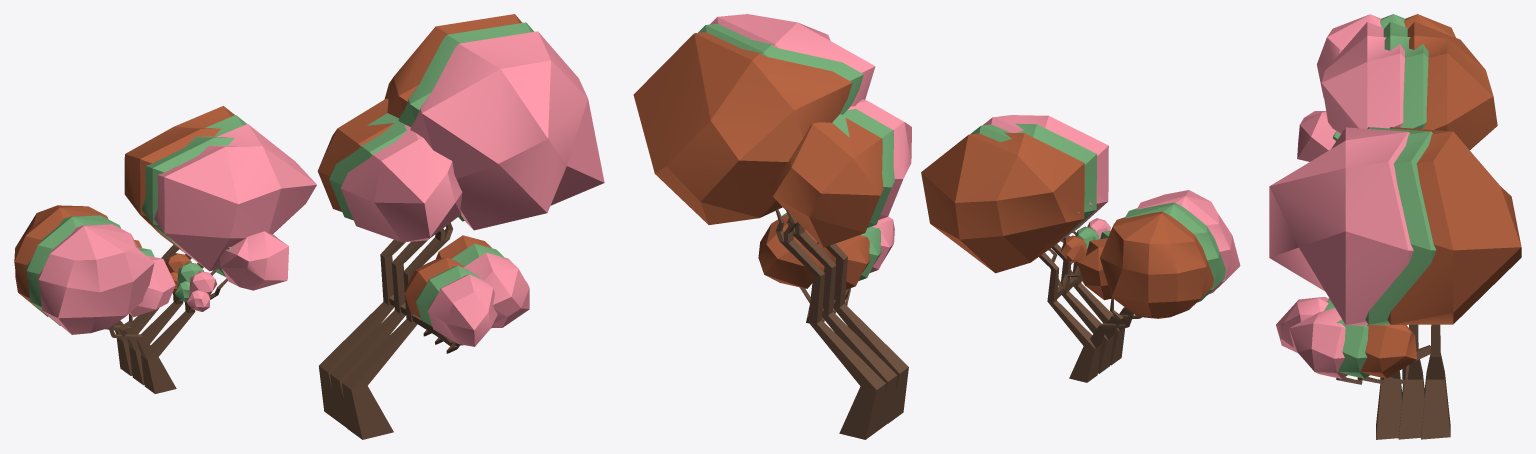
The model's file is trees.fbx.
3 renders of one model, left to right at view 1: azimuth 30°, elevation 25°; view 2: azimuth 150°, elevation 25°; view 3: azimuth 270°, elevation 25°, orthographic. The views are drawn at different scales.
Parts seen in each view (by area): view 1: tree2, tree1, tree6, tree4, tree5, tree3; view 2: tree6, tree5, tree2, tree4, tree3, tree1; view 3: tree2, tree6, tree1, tree4, tree5, tree3.
Part boxes in pixels (x1,y1,x2,y2): tree2: [340, 31, 604, 439]; tree1: [38, 124, 316, 393]; tree6: [317, 14, 522, 419]; tree4: [329, 22, 534, 427]; tree5: [14, 106, 234, 375]; tree3: [26, 115, 276, 385]; tree6: [633, 32, 885, 439]; tree5: [921, 132, 1213, 382]; tree2: [710, 14, 911, 423]; tree4: [698, 24, 897, 431]; tree3: [970, 123, 1225, 373]; tree1: [982, 115, 1240, 365]; tree2: [1269, 127, 1413, 439]; tree6: [1360, 127, 1521, 439]; tree1: [1297, 14, 1404, 161]; tree4: [1324, 127, 1436, 439]; tree5: [1404, 14, 1497, 150]; tree3: [1333, 14, 1428, 140].
Bounding box in the file's own units: 217 × 133 × 86.88.
